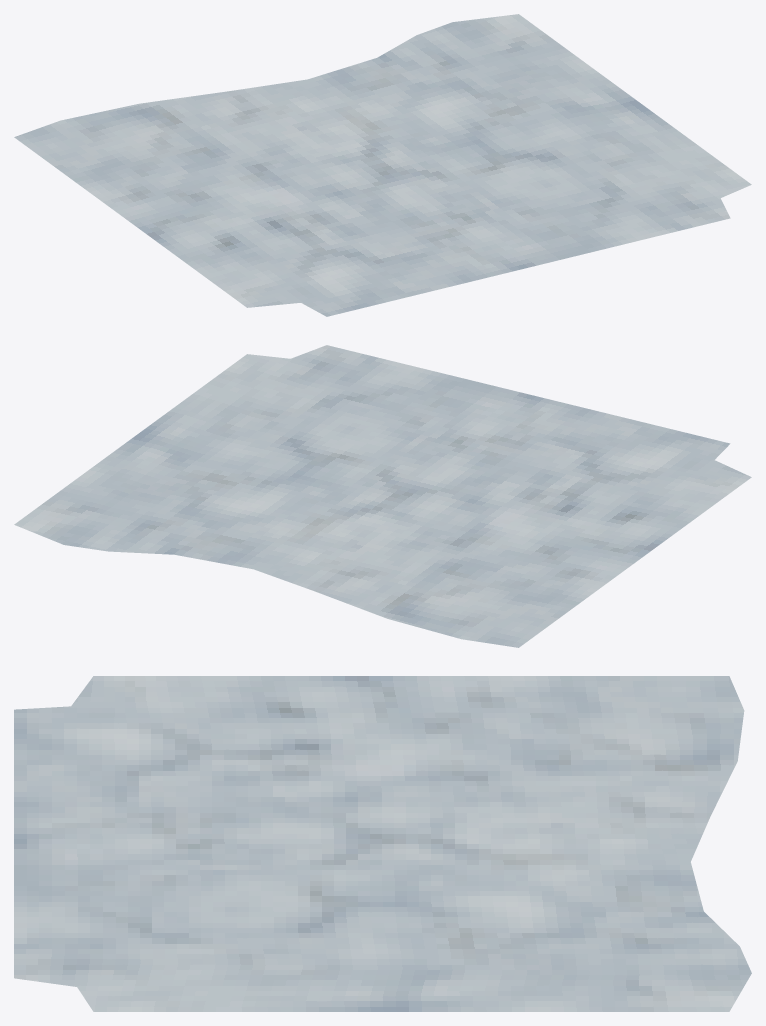
Rendered from SnowyRoad T.fbx.
3 views of the same model, one above another, from view 1: azimuth 30°, elevation 25°; view 2: azimuth 150°, elevation 25°; view 3: azimuth 270°, elevation 25° (orthographic). The views are drawn at different scales.
Parts seen in each view (by area): view 1: SnowyRoad_T; view 2: SnowyRoad_T; view 3: SnowyRoad_T.
Part boxes in pixels (x1,y1,x2,y2): SnowyRoad_T: (14,14,751,316); SnowyRoad_T: (14,345,751,647); SnowyRoad_T: (14,676,751,1011).
Size of the model in its own units: 1 by 0 by 0.9284.
